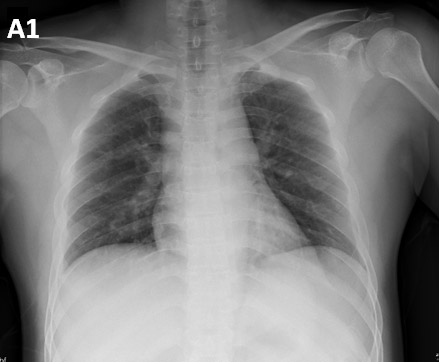Mildw: (237, 73, 361, 259), (65, 71, 174, 261)
